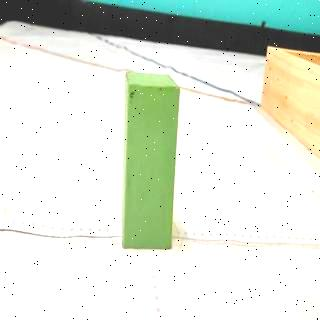greenbox: (120, 67, 182, 254)
